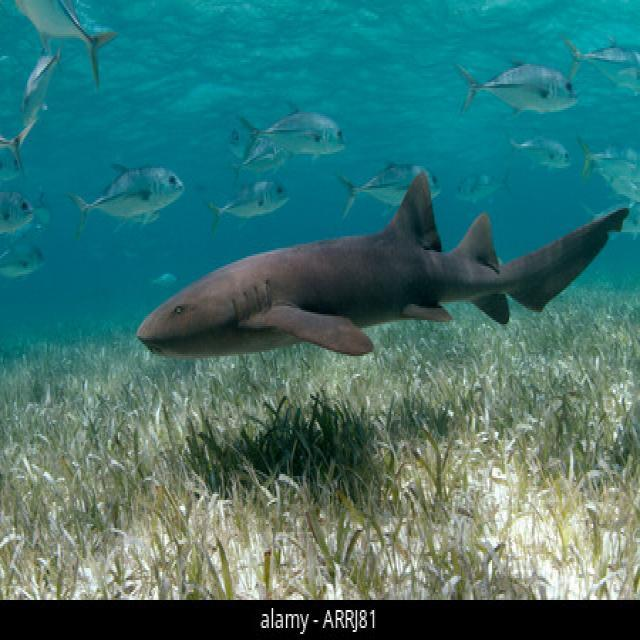Shark: (125, 130, 634, 370)
